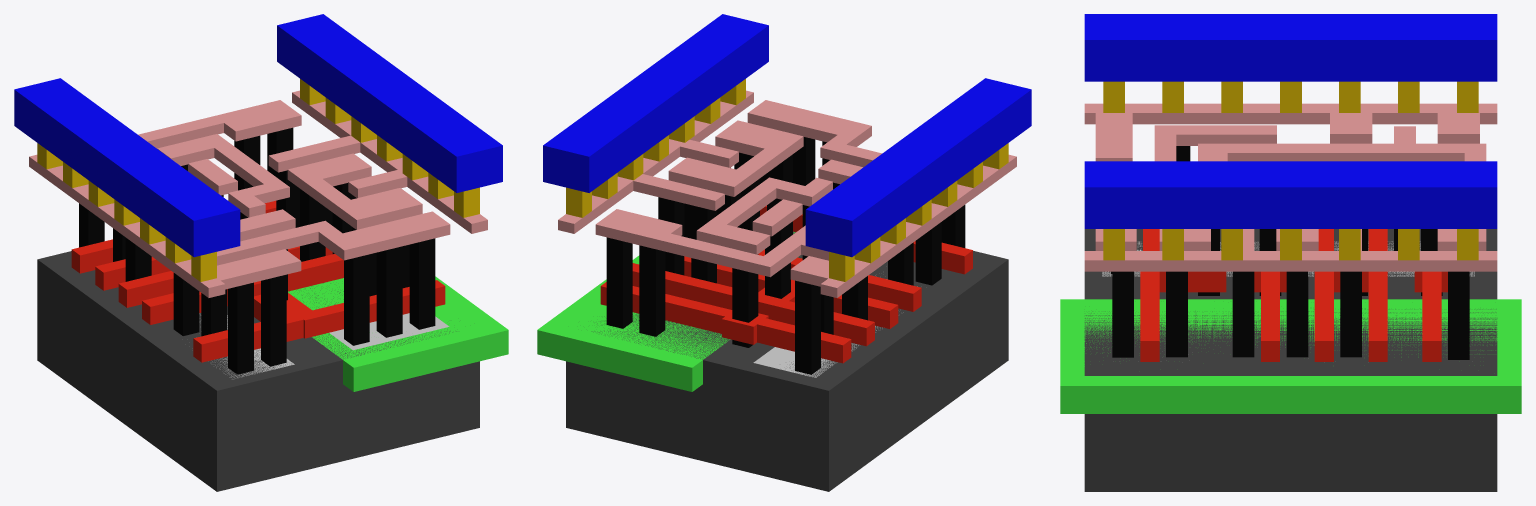
Rendered from sky130_fd_sc_hd__xor2_1.obj.
3 renders of one model, left to right at view 1: azimuth 30°, elevation 25°; view 2: azimuth 150°, elevation 25°; view 3: azimuth 270°, elevation 25°, orthographic. The views are drawn at different scales.
Visible parts, largest first — view 1: subs, metal1, li, licon, poly, nwell, mcon, tap; view 2: subs, metal1, li, licon, poly, nwell, mcon, diff; view 3: metal1, subs, li, nwell, licon, poly, mcon.
Boxes of the visible parts, <box> form: subs: <box>37,251,479,491</box>; metal1: <box>14,14,502,257</box>; li: <box>29,90,487,297</box>; licon: <box>79,127,435,374</box>; poly: <box>71,200,445,362</box>; nwell: <box>288,276,508,391</box>; mcon: <box>37,79,479,281</box>; tap: <box>329,313,449,350</box>; subs: <box>566,231,1008,491</box>; metal1: <box>543,14,1031,257</box>; li: <box>558,90,1016,297</box>; licon: <box>606,137,965,374</box>; poly: <box>600,205,972,363</box>; nwell: <box>537,232,795,391</box>; mcon: <box>566,79,1008,281</box>; diff: <box>753,275,917,377</box>; metal1: <box>1084,14,1497,228</box>; subs: <box>1084,229,1497,491</box>; li: <box>1084,103,1497,271</box>; nwell: <box>1060,299,1521,413</box>; licon: <box>1111,146,1469,359</box>; poly: <box>1140,229,1447,361</box>; mcon: <box>1103,81,1478,260</box>.
Size of the model in its own units: 3.2 by 2.74 by 3.6.
